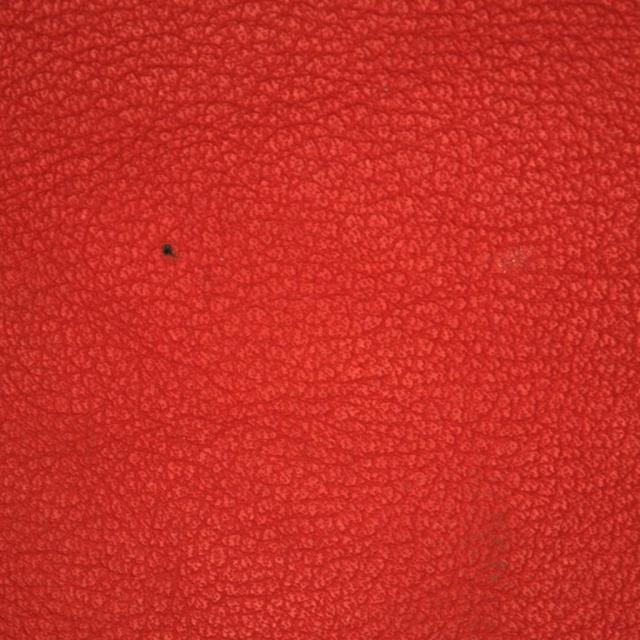Hole: (68, 185, 264, 323)
